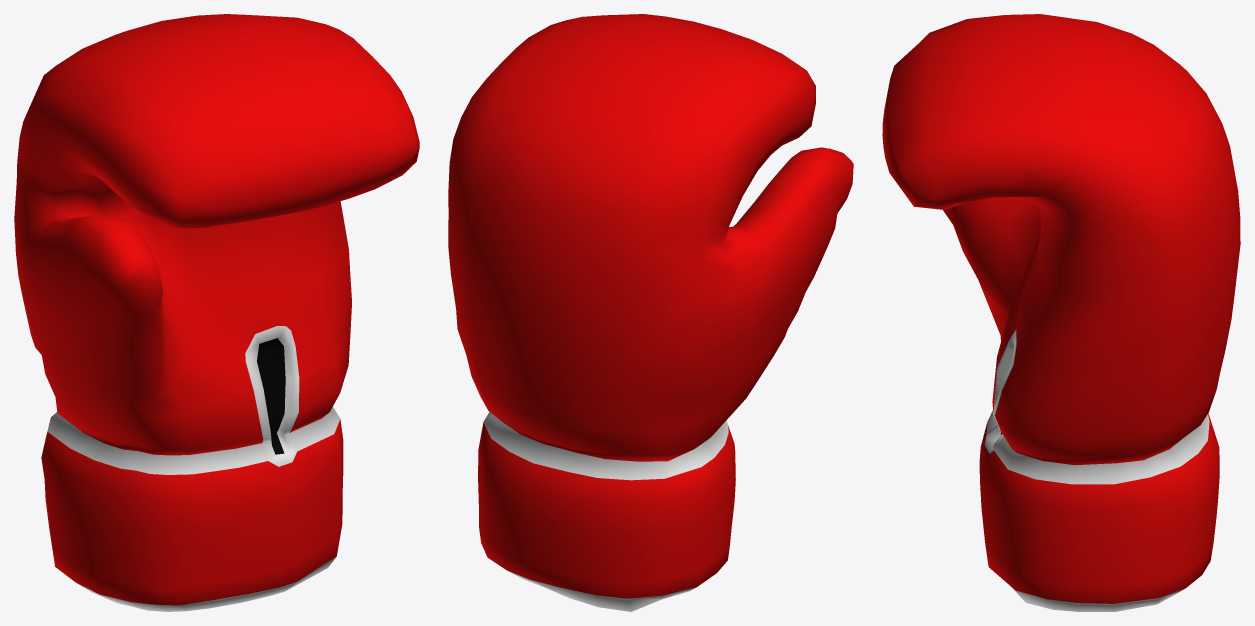
File: guantes_remeshIZQ.fbx
3 views of the same model, side by side, from view 1: azimuth 30°, elevation 25°; view 2: azimuth 150°, elevation 25°; view 3: azimuth 270°, elevation 25° (orthographic). The views are drawn at different scales.
Visible parts, largest first — view 1: BSurfaceMesh.001; view 2: BSurfaceMesh.001; view 3: BSurfaceMesh.001.
Boxes of the visible parts, x1,y1,x2,y2 form: BSurfaceMesh.001: (14, 14, 419, 611); BSurfaceMesh.001: (448, 14, 853, 611); BSurfaceMesh.001: (882, 14, 1240, 611).
Size of the model in its own units: 19.84 by 31.88 by 19.96.
